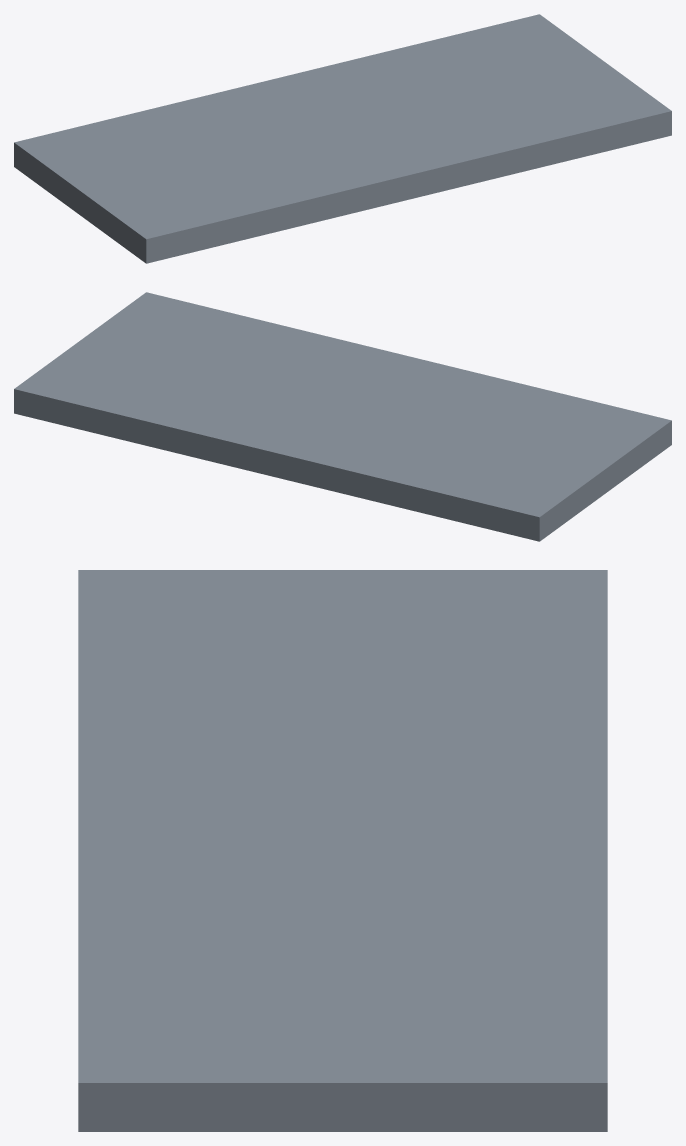
Rendered from gltf__Models__map__Village__circlePark__circlePark_floorCollision.glb.
3 renders of one model, top to bottom at view 1: azimuth 30°, elevation 25°; view 2: azimuth 150°, elevation 25°; view 3: azimuth 270°, elevation 25°, orthographic. The views are drawn at different scales.
Visible parts, largest first — view 1: circlePark_floorCollision; view 2: circlePark_floorCollision; view 3: circlePark_floorCollision.
Boxes of the visible parts, x1,y1,x2,y2 form: circlePark_floorCollision: (14, 14, 671, 263); circlePark_floorCollision: (14, 292, 671, 541); circlePark_floorCollision: (78, 570, 607, 1131).
Size of the model in its own units: 91.12 by 4.05 by 39.73.
Materials: 1 (1 with a texture image).
